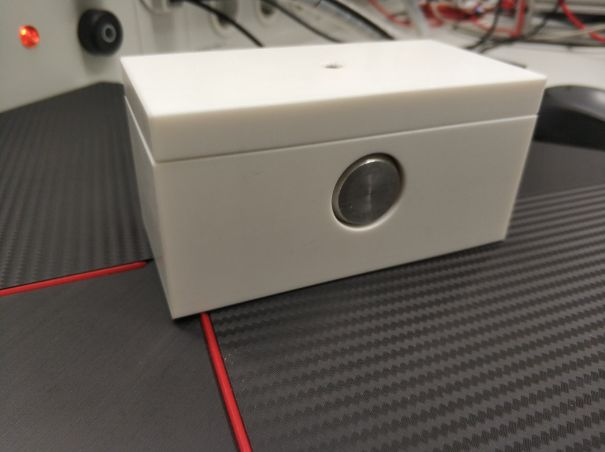white+white+silver: (114, 36, 553, 325)
